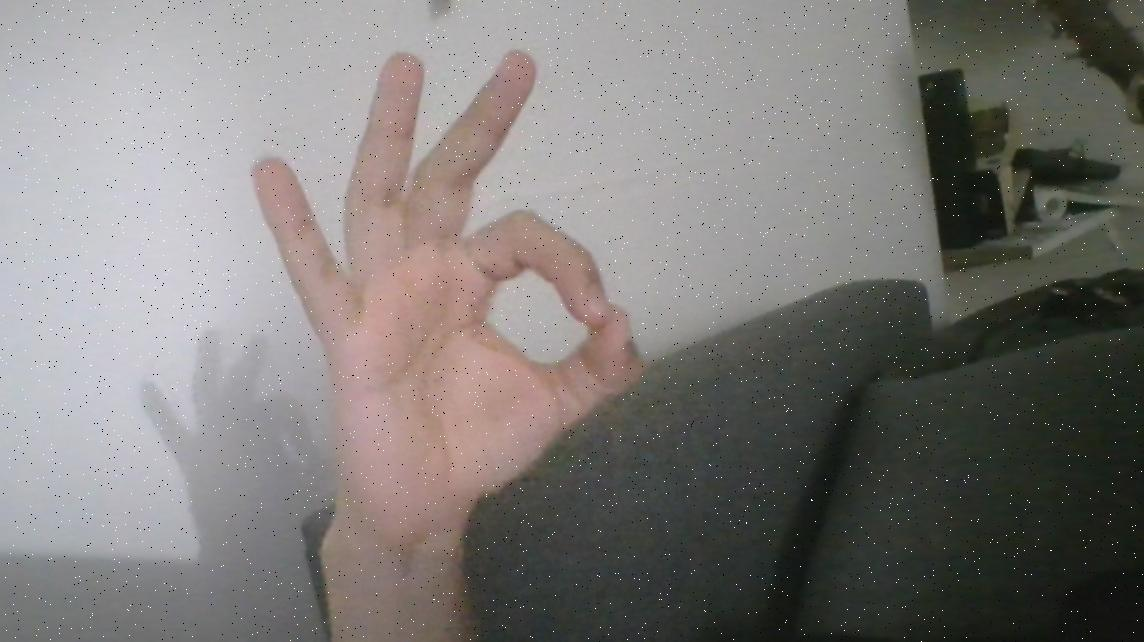zero: (216, 35, 673, 557)
